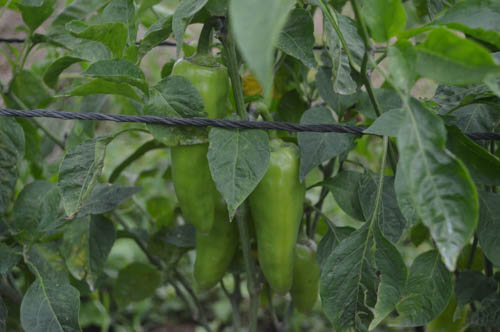ChiliPepper: (168, 61, 224, 234), (252, 142, 301, 301), (191, 204, 235, 288), (293, 242, 321, 310)
